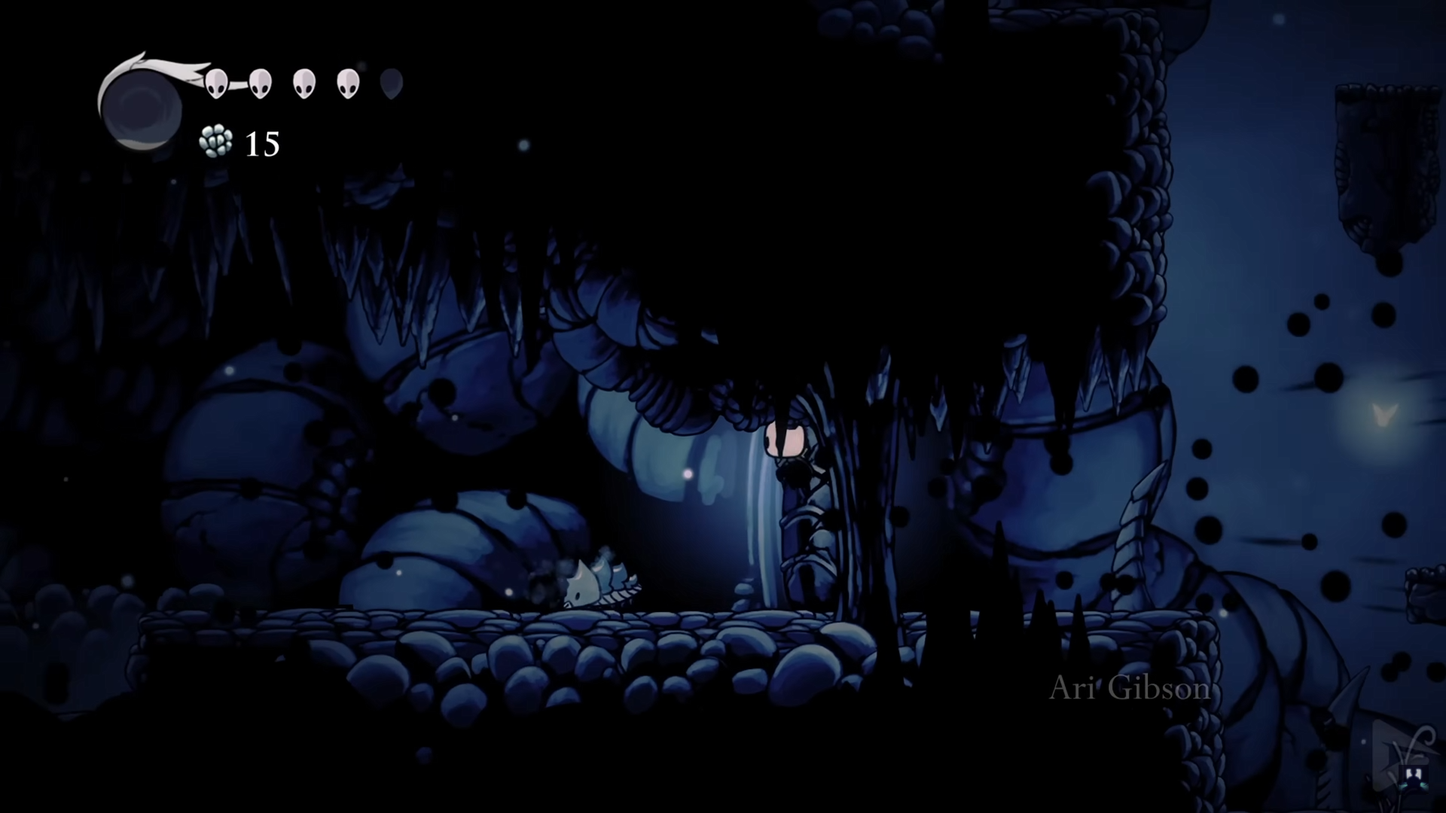HK: (758, 413, 816, 492)
